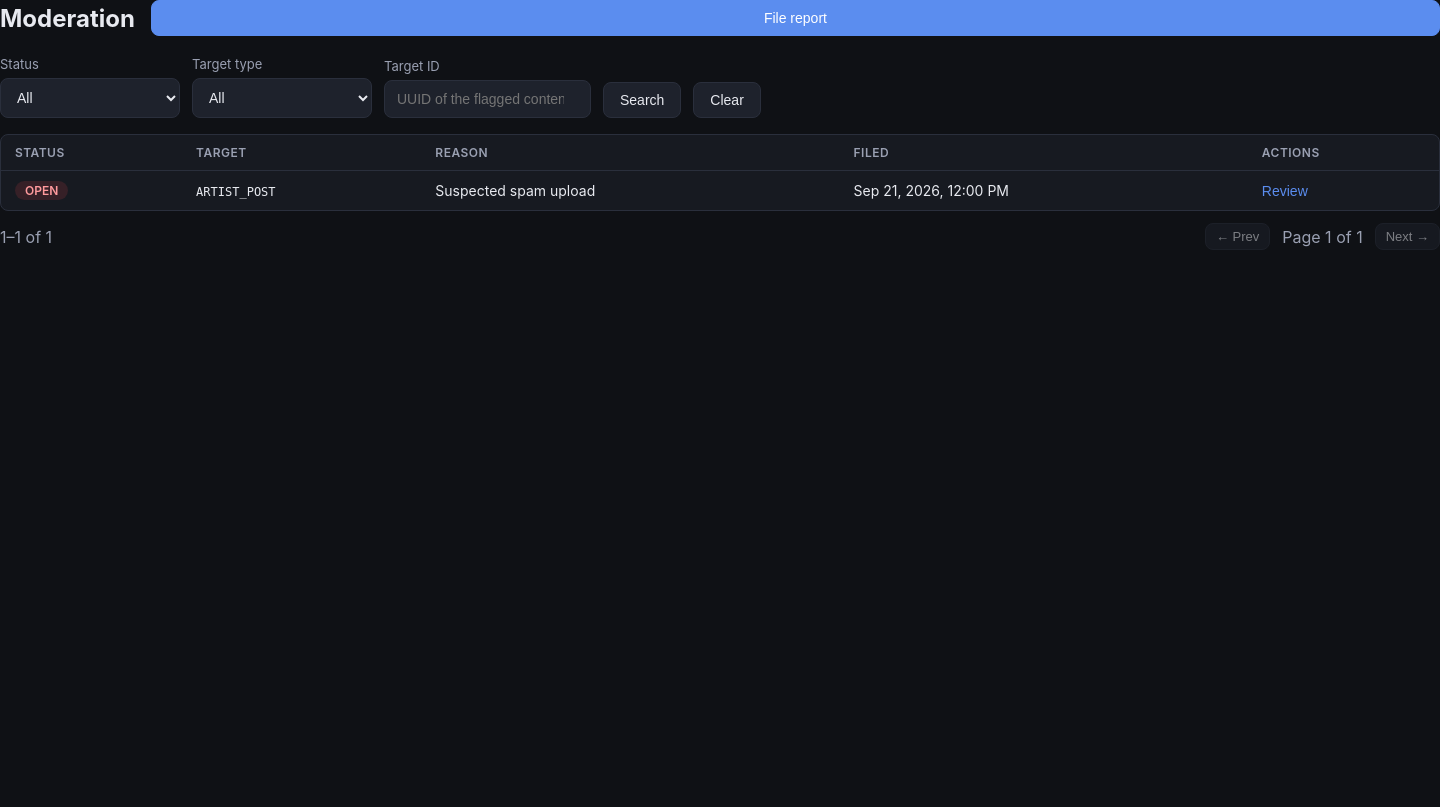
Test case: community content moderation (Phase 29) › removes a post after confirmation and offers Restore
Click the button with aria-label "Review report report-p1" at (1285, 191), box [1262,183,1308,199]
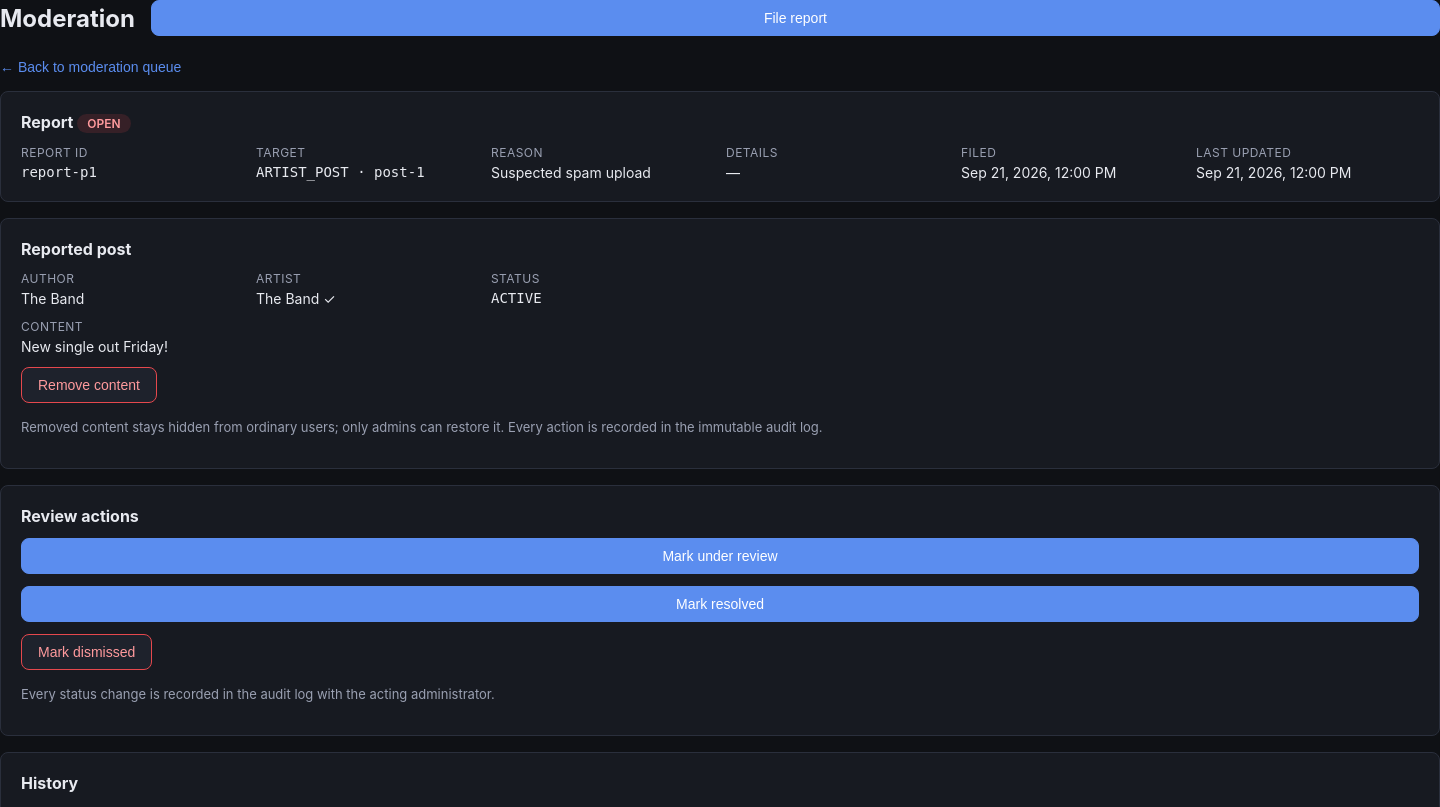
Click the button "Remove content" at (89, 385), box [21,367,157,403]
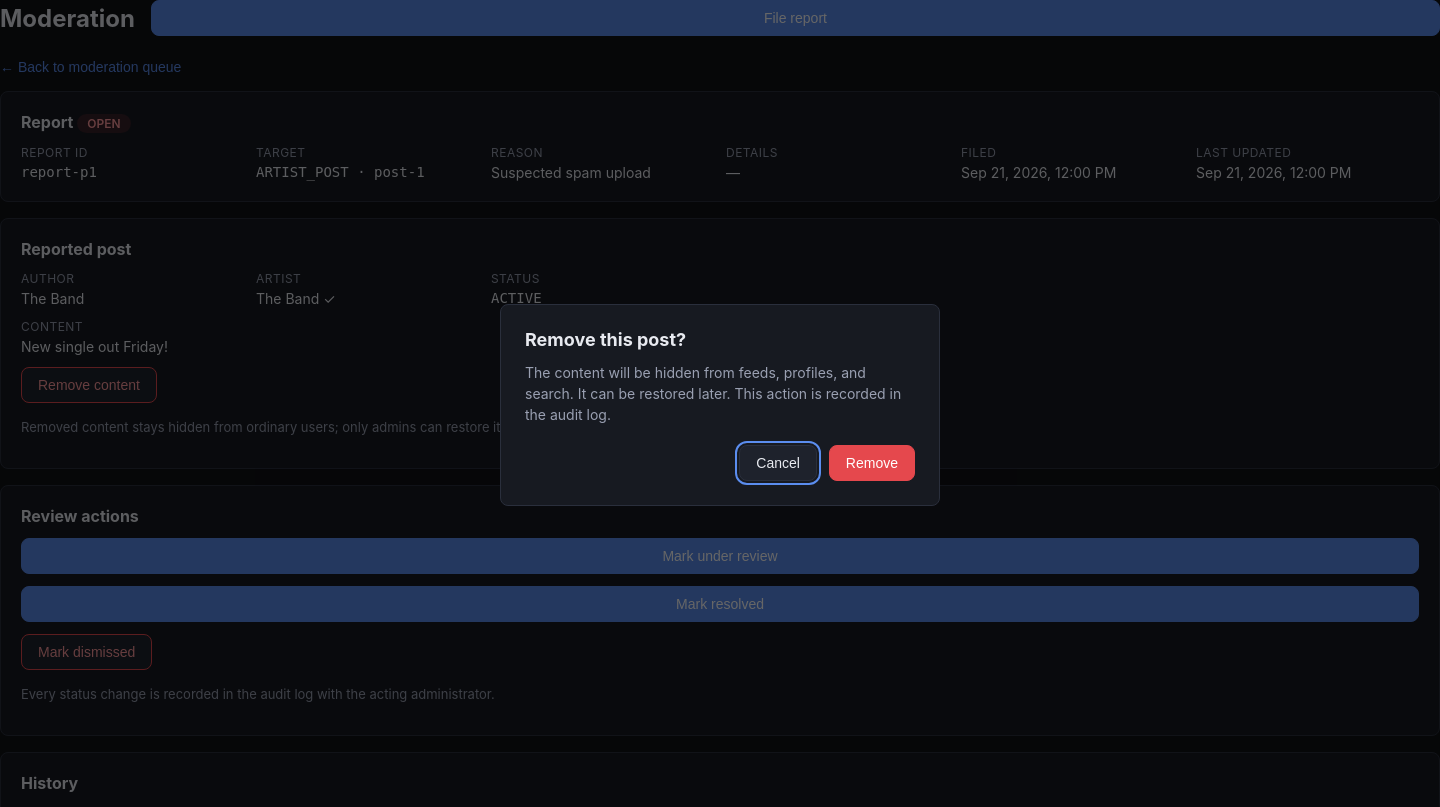
Click the button "Remove" at (872, 463), box [829,445,915,481]
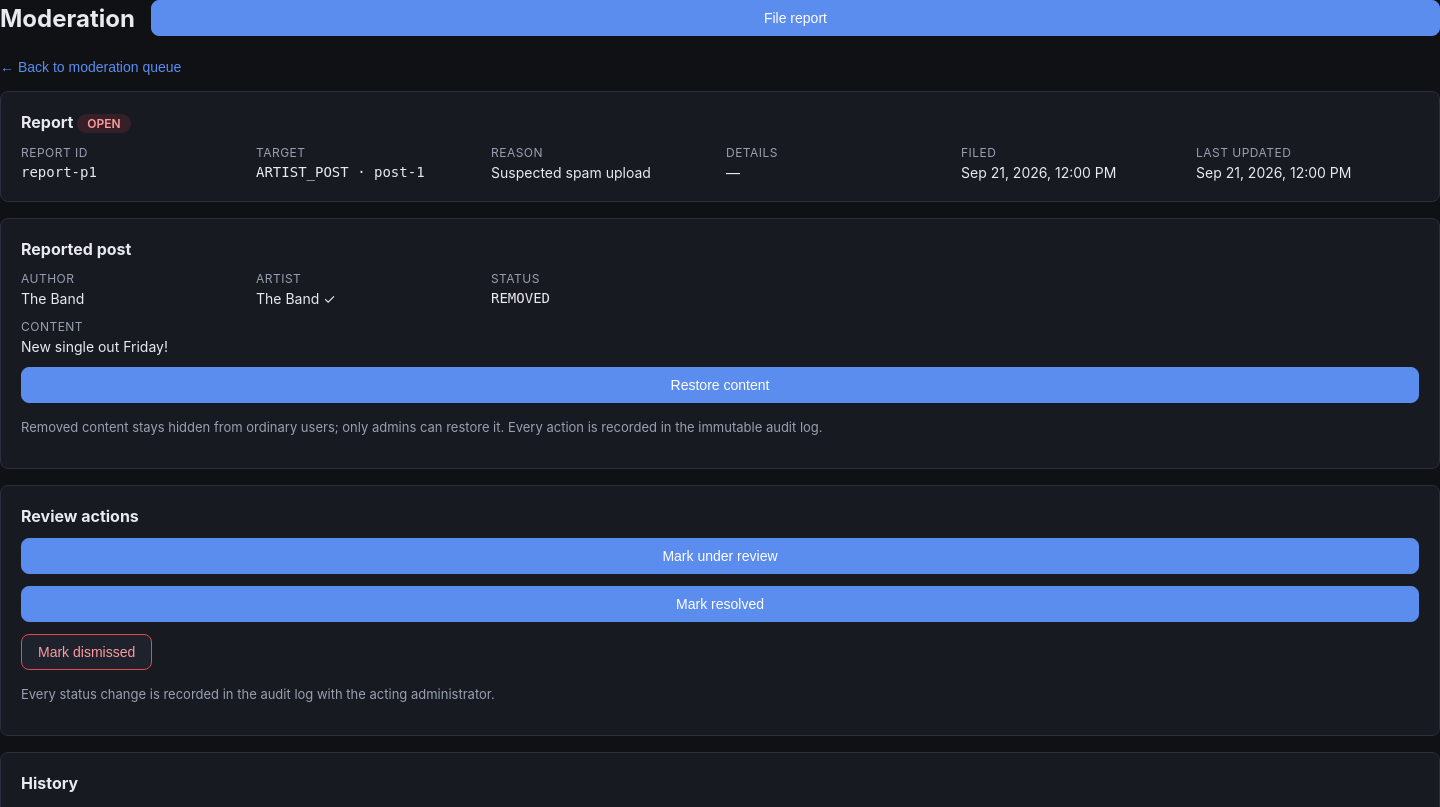
Expected: the button "Restore content" is shown, [21,367,1419,403]
